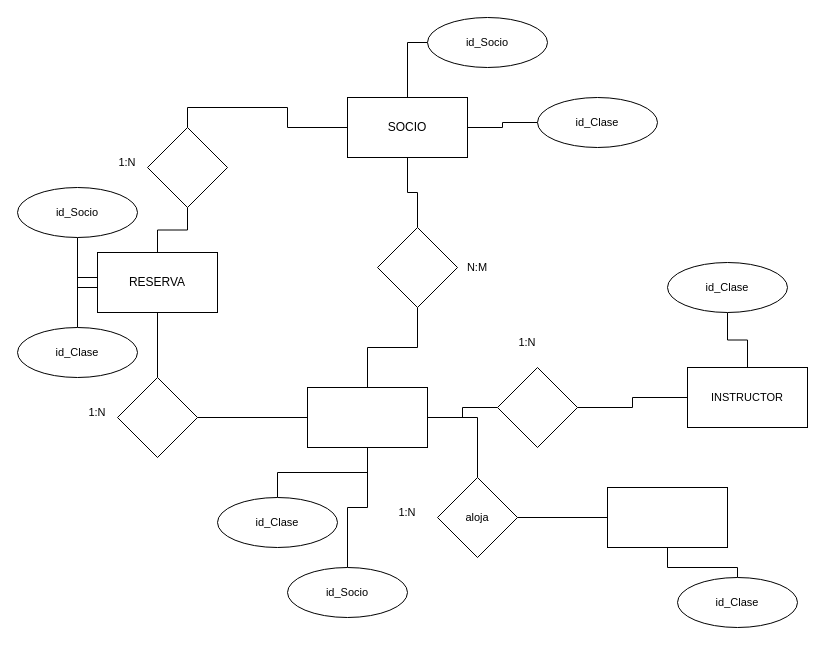
Image size: 825x645. Some labels were removed from this diagram. Here are the shapes that lost their labels. From the top down, the centre of each, then its label:
the point at 187,167: realiza
the point at 417,267: está
the point at 157,417: tiene
the point at 367,417: CLASE
the point at 537,407: imparte
the point at 667,517: SALA
